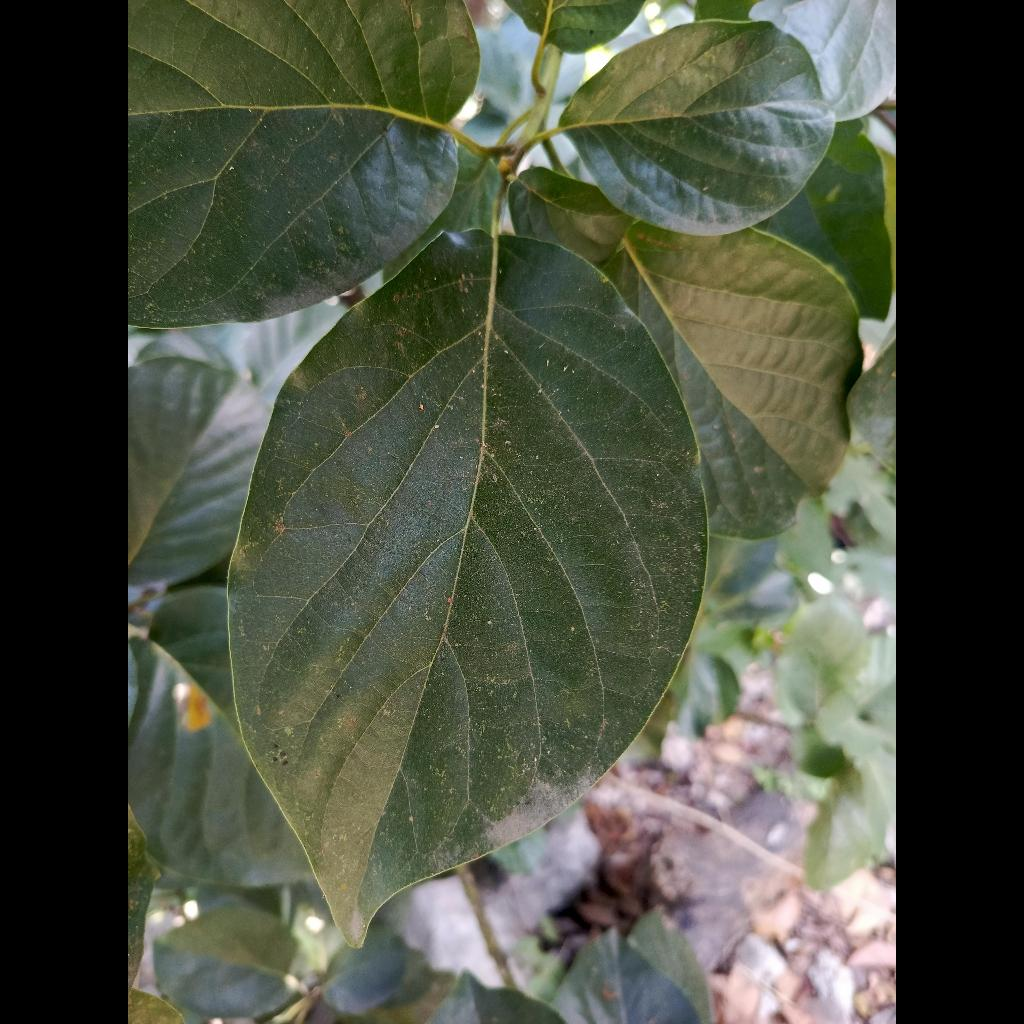Anthracnose: (229, 230, 706, 945)
